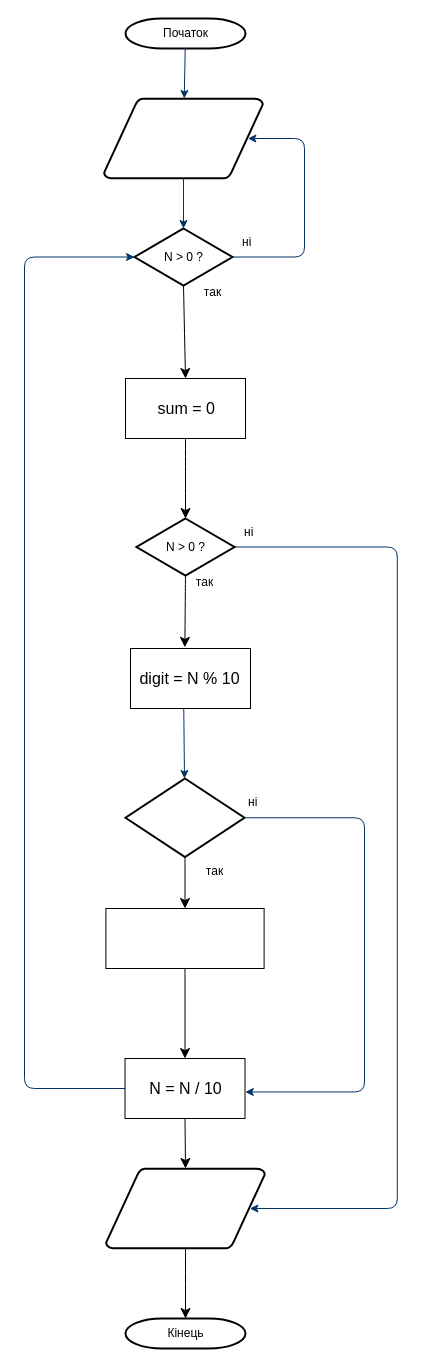
Image size: 423x1366. Some labels were removed from this diagram. The shapes that lost their labels are listed below. From the top down, each one's centre as x and y in pixels, then its label:
point 183,138: Ввести N
point 184,817: digit < 7
point 184,938: sum = sum + digit
point 185,1208: Вивести sum
